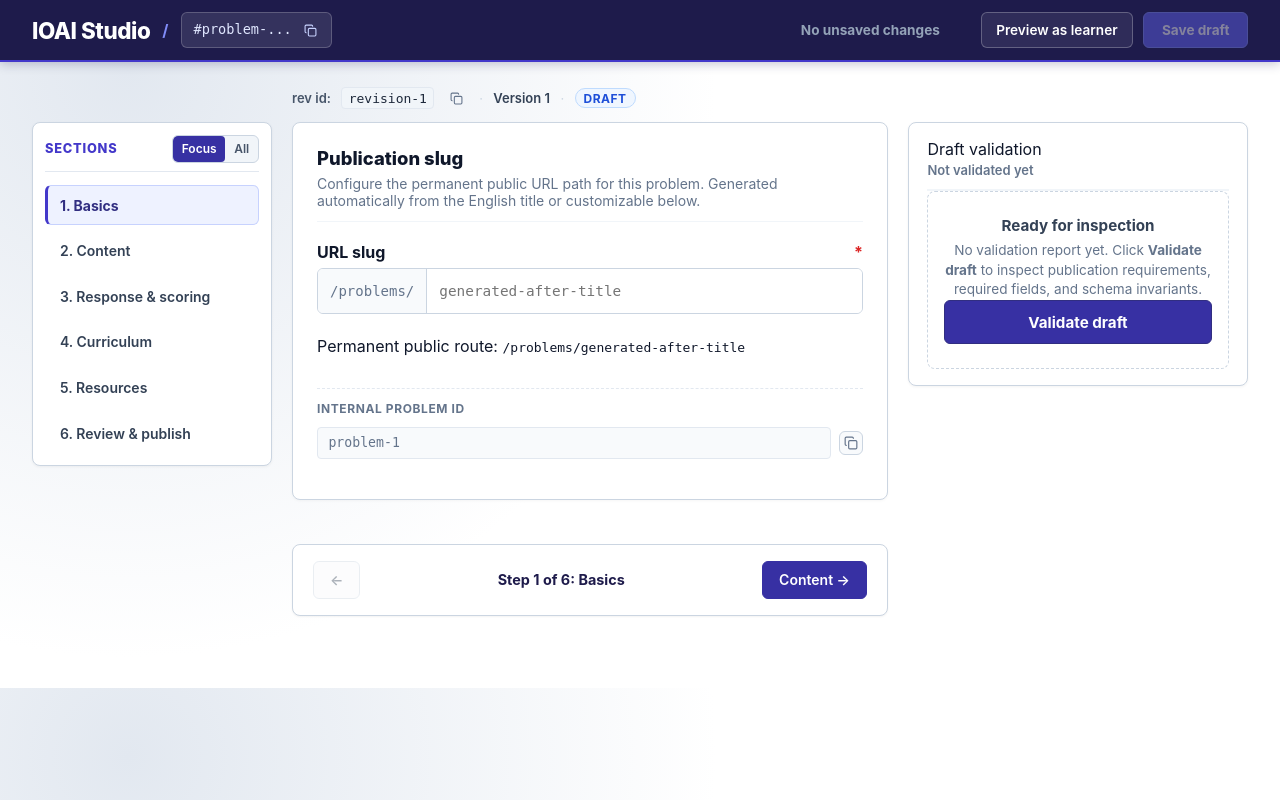
it: draft editor coordinator › remains editable when browser storage is unavailable
This screenshot has width=1280, height=800.
Type "still-here" into the field labelled "URL slug". click: [645, 291]
box: [427,269,862,313]
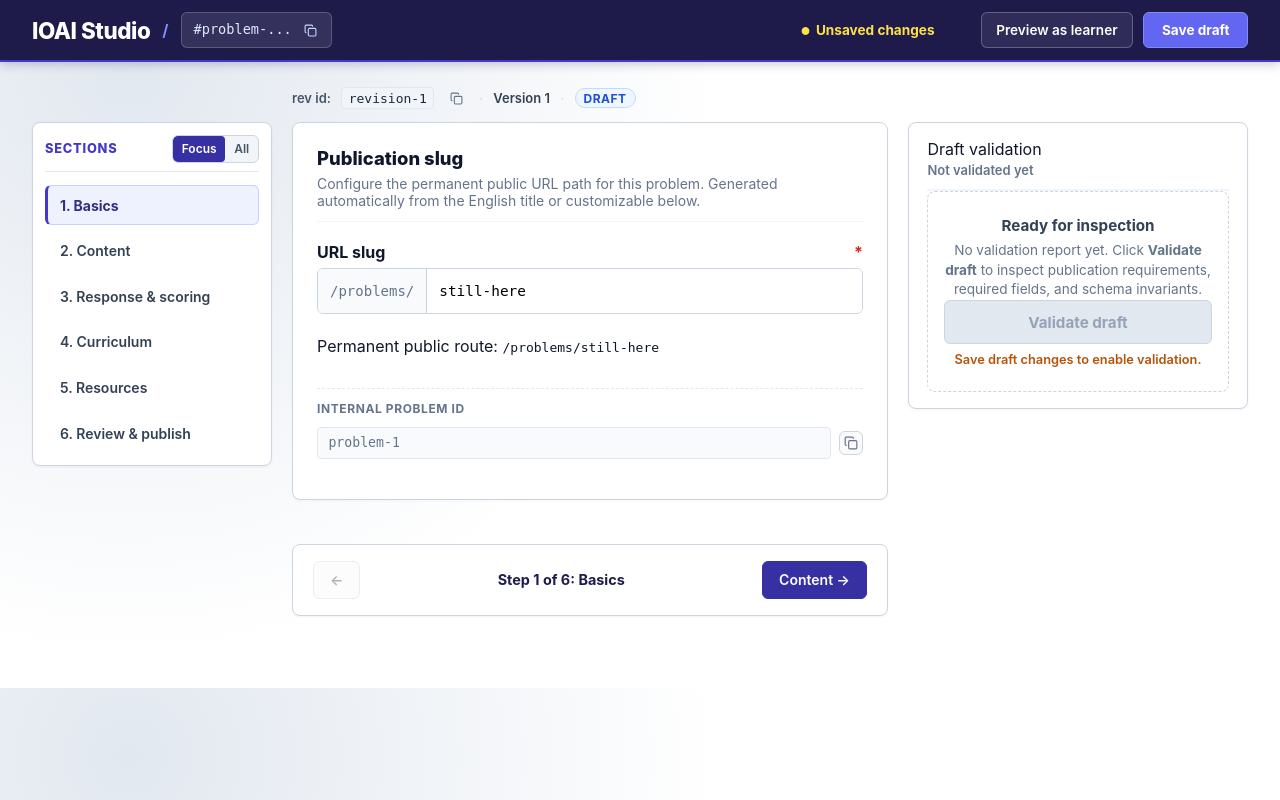
Click the button "Save draft". click: [1196, 30]
box: [1143,12,1248,48]
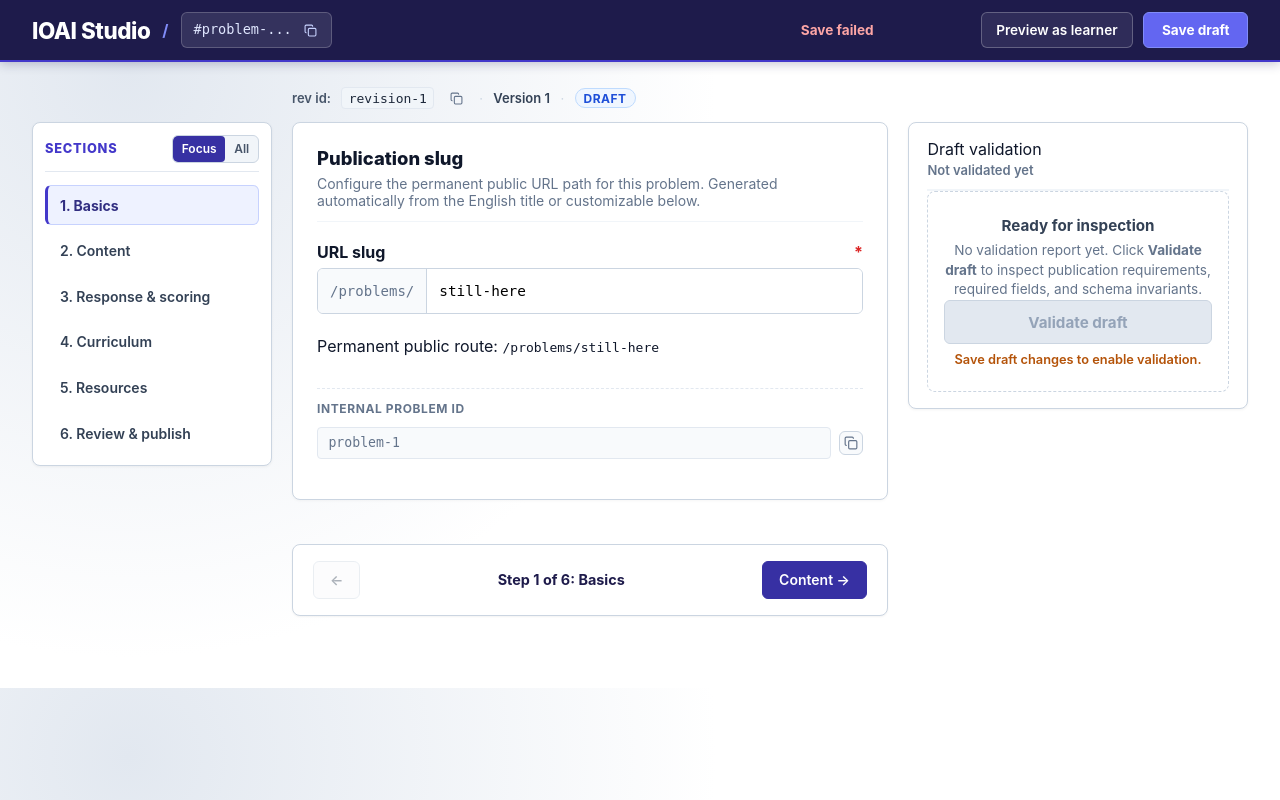
Expected: the text "Save failed" is shown, [801,22,874,38]
